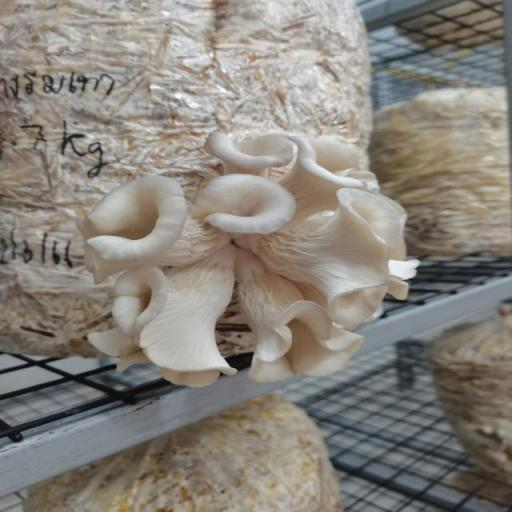White Oyster Mushroom: (84, 128, 410, 385)
